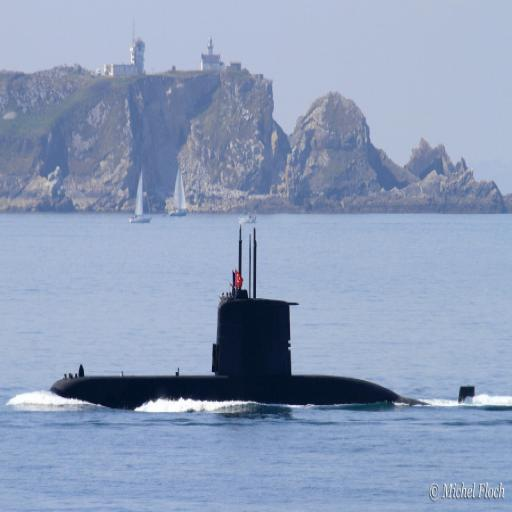submarine: (52, 293, 472, 405)
